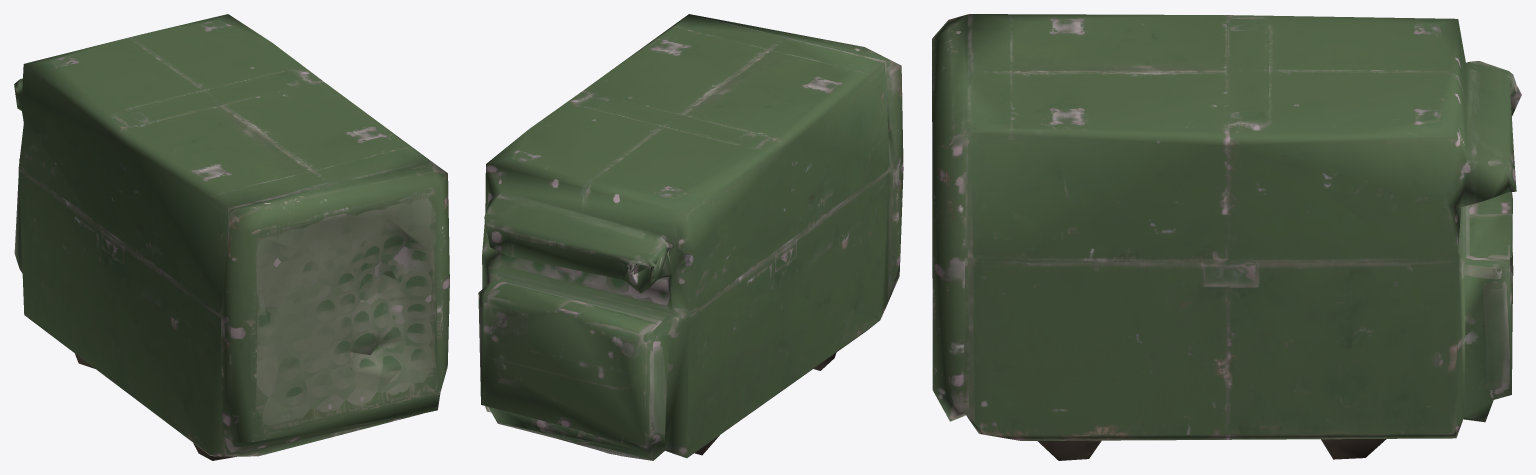
Rendered from shoulder-b-1-lod1.glb.
3 views of the same model, side by side, from view 1: azimuth 30°, elevation 25°; view 2: azimuth 150°, elevation 25°; view 3: azimuth 270°, elevation 25° (orthographic). The views are drawn at different scales.
Parts seen in each view (by area): view 1: Body; view 2: Body; view 3: Body.
Boxes of the visible parts, box(x1,y1,x2,y2) form: Body: box(14, 14, 449, 460); Body: box(478, 14, 903, 460); Body: box(932, 14, 1521, 460).
Bounding box in the file's own units: 0.312 × 0.3835 × 0.6.
1 material, 1 textured.
